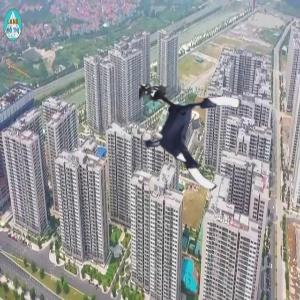drone: (137, 87, 242, 192)
